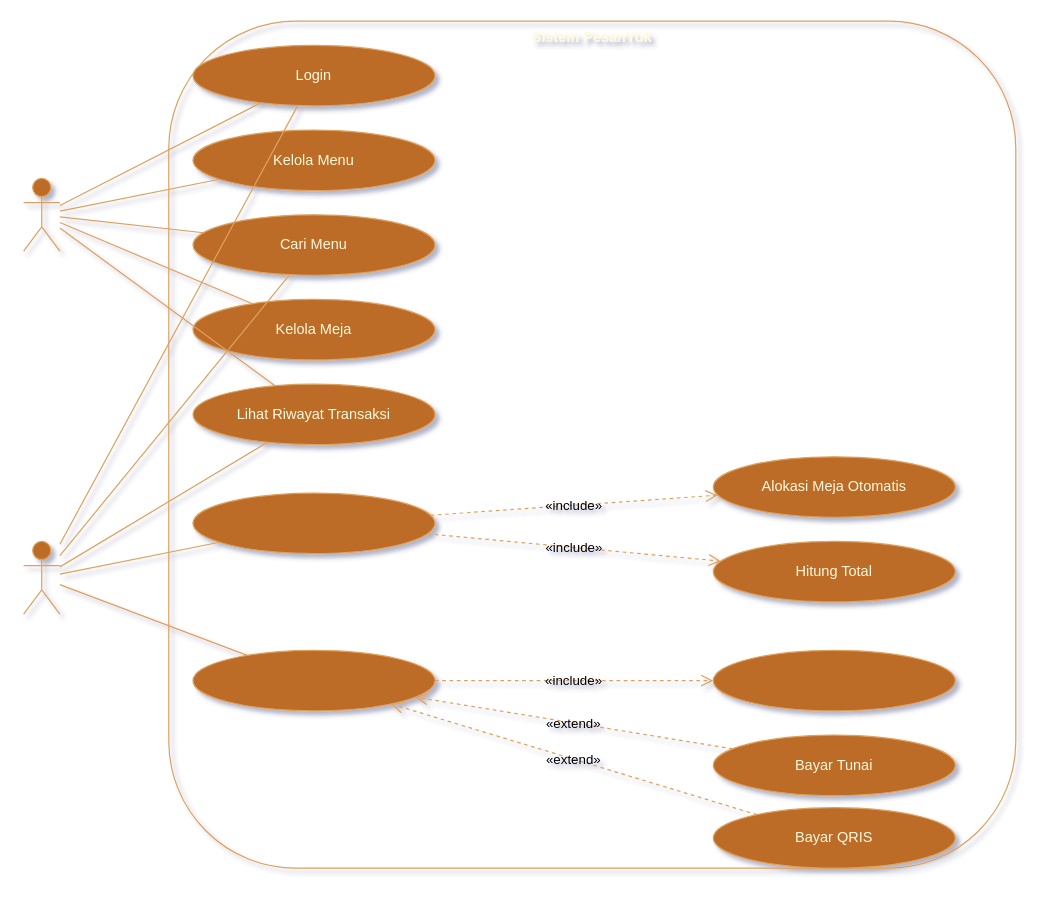
The diagram is 1044 pixels wide and 897 high, and some of its shapes have lost their labels. The box of each missing label's shape, as (x1, y1, x2, y2) in pixels:
Admin: (22, 177, 60, 251)
Buat Pesanan: (192, 492, 435, 554)
Cetak Struk: (712, 649, 955, 711)
Kasir: (22, 540, 60, 614)
Proses Pembayaran: (192, 649, 435, 711)
